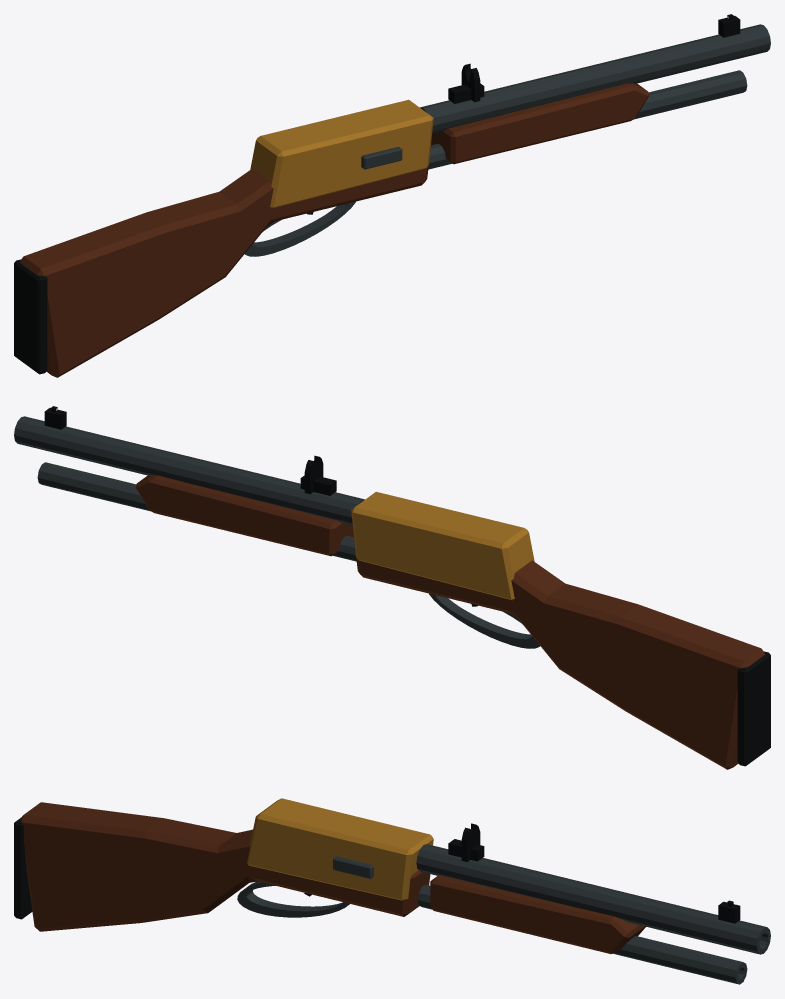
File: CE_Gun_HenrySideGate.obj
3 renders of one model, top to bottom at view 1: azimuth 30°, elevation 25°; view 2: azimuth 150°, elevation 25°; view 3: azimuth 330°, elevation 25°, orthographic.
Visible parts, largest first — view 1: HenrySideGate_individually_shaped_stock_and_bedding, HenrySideGate_contoured_receiver, Hollow_gun_barrel, Henry_slim_separate_wooden_fore-end, Contoured_butt_plate, Under_barrel_tubular_magazine, Henry_close_swept_double-arc_lever, Henry_side_loading_gate; view 2: HenrySideGate_individually_shaped_stock_and_bedding, HenrySideGate_contoured_receiver, Hollow_gun_barrel, Henry_slim_separate_wooden_fore-end, Contoured_butt_plate, Under_barrel_tubular_magazine, Henry_close_swept_double-arc_lever; view 3: HenrySideGate_individually_shaped_stock_and_bedding, HenrySideGate_contoured_receiver, Hollow_gun_barrel, Henry_slim_separate_wooden_fore-end, Under_barrel_tubular_magazine, Henry_close_swept_double-arc_lever, Contoured_butt_plate, Henry_side_loading_gate, R3_semi_buckhorn_open_V, R3_buckhorn_barrel_mounted_leaf, R3_front_bead_ramp.
Part boxes in pixels (bbox=[...]): HenrySideGate_individually_shaped_stock_and_bedding: bbox=[20, 143, 431, 377]; HenrySideGate_contoured_receiver: bbox=[250, 99, 433, 208]; Hollow_gun_barrel: bbox=[420, 24, 770, 133]; Henry_slim_separate_wooden_fore-end: bbox=[431, 83, 648, 164]; Contoured_butt_plate: bbox=[14, 259, 47, 374]; Under_barrel_tubular_magazine: bbox=[428, 70, 747, 169]; Henry_close_swept_double-arc_lever: bbox=[245, 201, 355, 256]; Henry_side_loading_gate: bbox=[361, 146, 402, 169]; HenrySideGate_individually_shaped_stock_and_bedding: bbox=[353, 535, 764, 769]; HenrySideGate_contoured_receiver: bbox=[351, 491, 534, 600]; Hollow_gun_barrel: bbox=[14, 416, 364, 525]; Henry_slim_separate_wooden_fore-end: bbox=[136, 475, 353, 556]; Contoured_butt_plate: bbox=[737, 651, 770, 766]; Under_barrel_tubular_magazine: bbox=[37, 462, 356, 561]; Henry_close_swept_double-arc_lever: bbox=[429, 593, 539, 648]; HenrySideGate_individually_shaped_stock_and_bedding: bbox=[20, 802, 430, 931]; HenrySideGate_contoured_receiver: bbox=[247, 798, 433, 900]; Hollow_gun_barrel: bbox=[416, 844, 770, 954]; Henry_slim_separate_wooden_fore-end: bbox=[430, 875, 645, 953]; Under_barrel_tubular_magazine: bbox=[417, 884, 747, 984]; Henry_close_swept_double-arc_lever: bbox=[237, 881, 349, 917]; Contoured_butt_plate: bbox=[14, 818, 32, 919]; Henry_side_loading_gate: bbox=[333, 856, 373, 878]; R3_semi_buckhorn_open_V: bbox=[461, 823, 480, 861]; R3_buckhorn_barrel_mounted_leaf: bbox=[448, 839, 484, 861]; R3_front_bead_ramp: bbox=[718, 901, 740, 923].
Size of the model in its own units: 1.32 by 0.3463 by 0.09.
